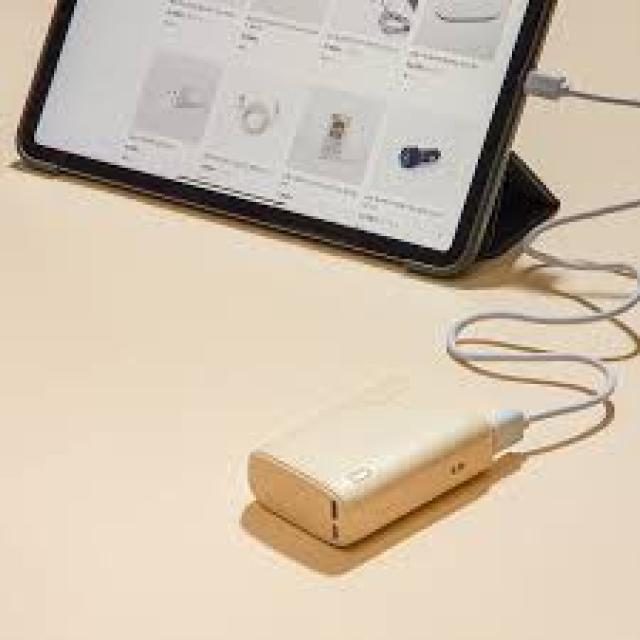portable-charger: (246, 368, 500, 556)
